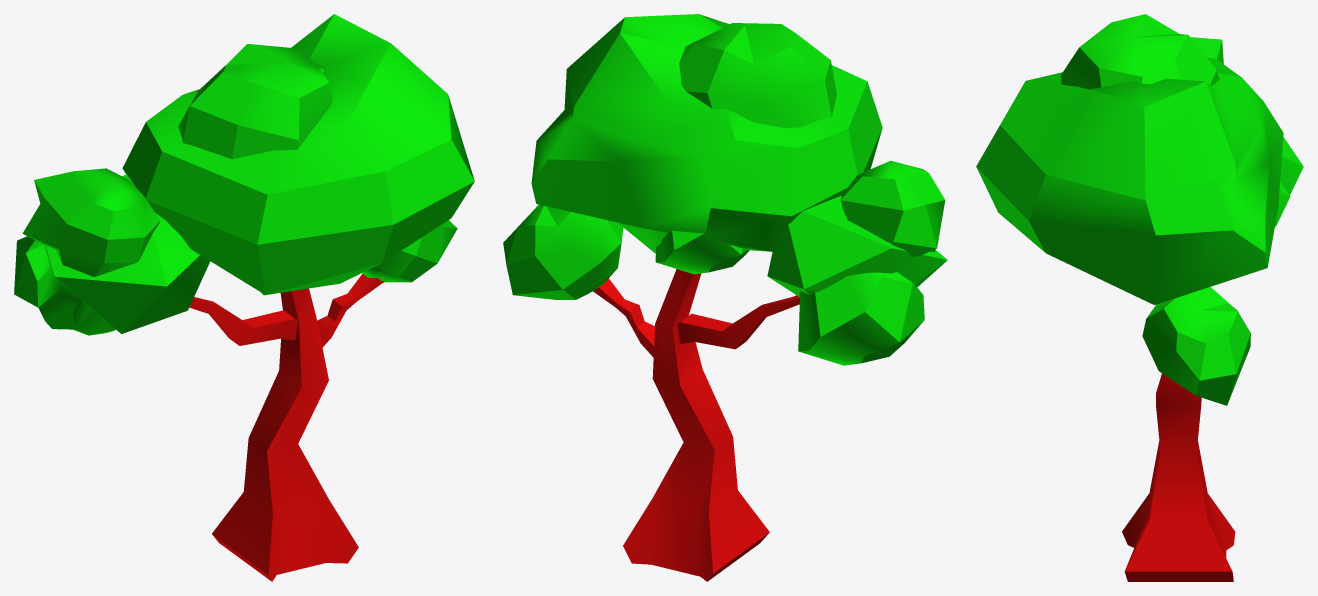
Rendered from Jungle_Tree_3.fbx.
3 renders of one model, left to right at view 1: azimuth 30°, elevation 25°; view 2: azimuth 150°, elevation 25°; view 3: azimuth 270°, elevation 25°, orthographic.
Visible parts, largest first — view 1: MESH_Jungle_Tree_3; view 2: MESH_Jungle_Tree_3; view 3: MESH_Jungle_Tree_3.
Part boxes in pixels (<box>): MESH_Jungle_Tree_3: <box>14,14,474,581</box>; MESH_Jungle_Tree_3: <box>503,14,947,581</box>; MESH_Jungle_Tree_3: <box>976,14,1303,581</box>.
Bounding box in the file's own units: 18.1 × 20.52 × 11.85.
